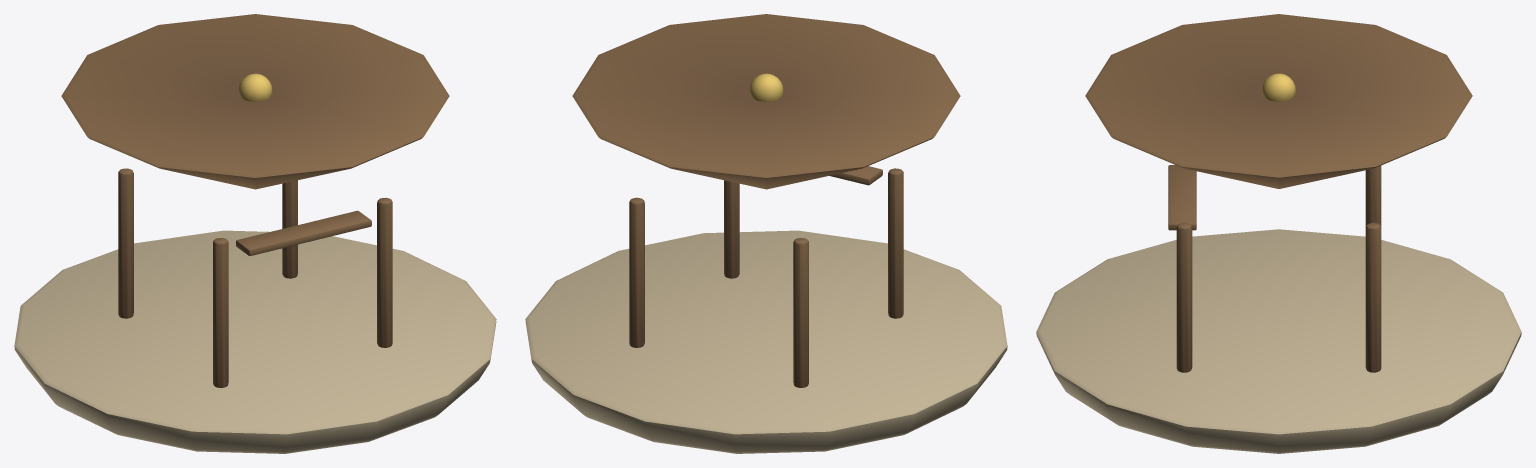
3 renders of one model, left to right at view 1: azimuth 30°, elevation 25°; view 2: azimuth 150°, elevation 25°; view 3: azimuth 270°, elevation 25°, orthographic.
Parts seen in each view (by area): view 1: landmark_202cc0a7; view 2: landmark_202cc0a7; view 3: landmark_202cc0a7.
Part boxes in pixels (x1,y1,x2,y2): landmark_202cc0a7: [14, 14, 496, 453]; landmark_202cc0a7: [525, 14, 1007, 453]; landmark_202cc0a7: [1036, 14, 1521, 453].
Size of the model in its own units: 5.13 by 3.33 by 5.13.
